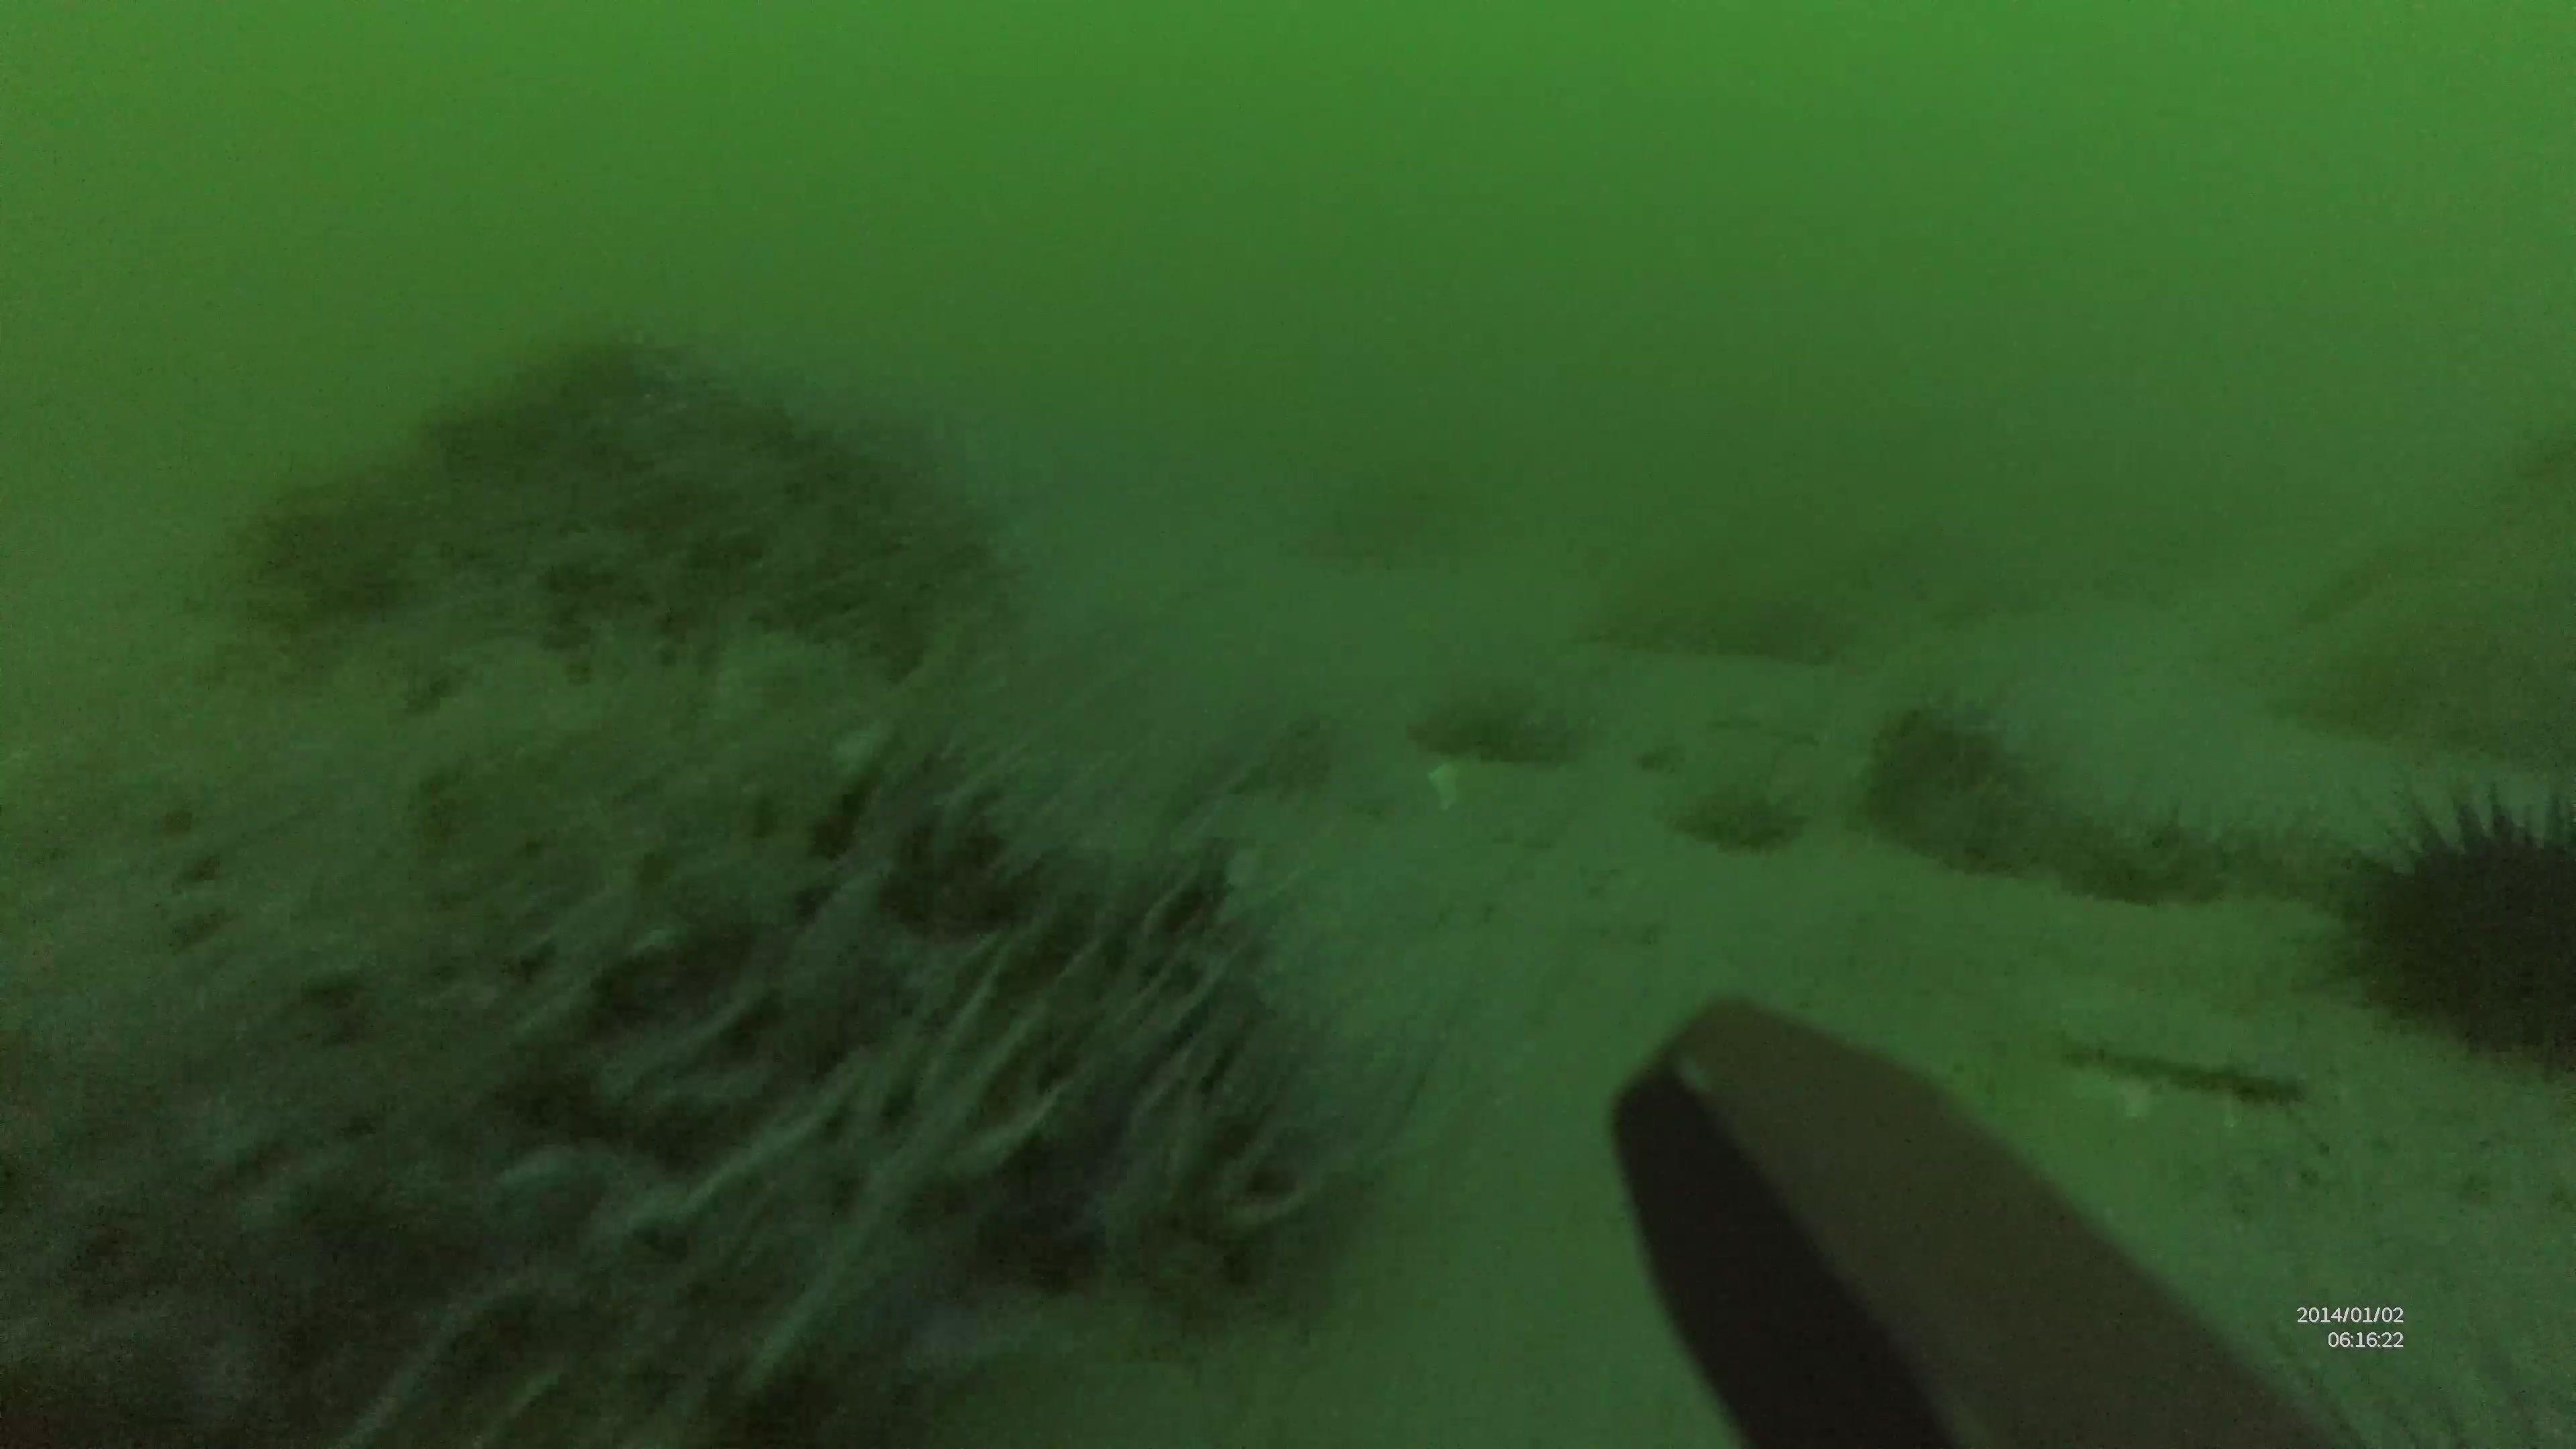echinus: (2348, 775, 2576, 1083)
